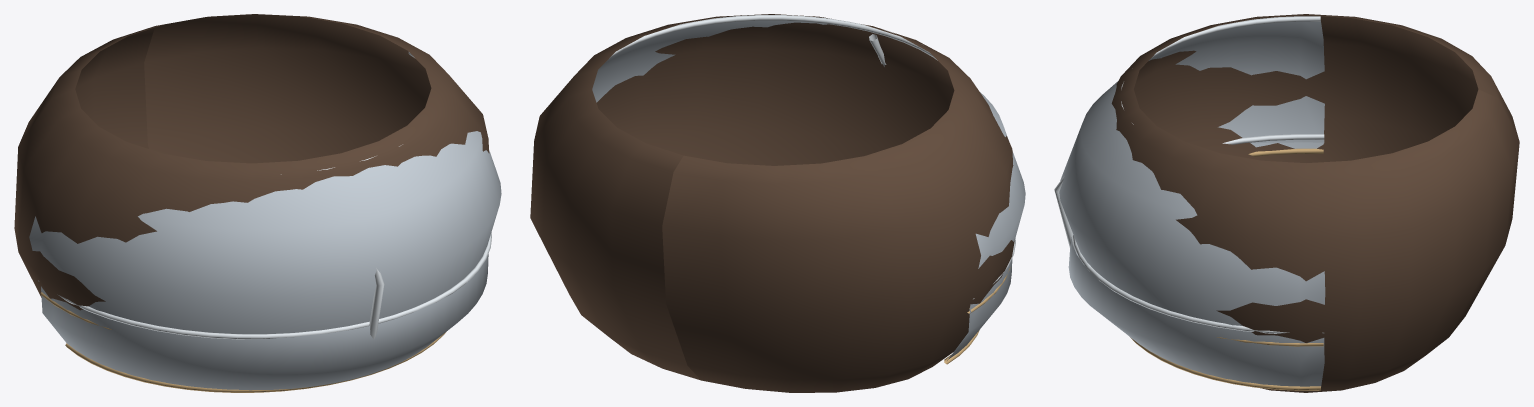
The model's file is gauntlet.glb.
3 renders of one model, left to right at view 1: azimuth 30°, elevation 25°; view 2: azimuth 150°, elevation 25°; view 3: azimuth 270°, elevation 25°, orthographic. The views are drawn at different scales.
Visible parts, largest first — view 1: glove_leather, metacarpal_plate, knuckle_plate, knuckle_plate_bevel, knuckle_plate_gold_rim, gauntlet_ridge; view 2: glove_leather, metacarpal_plate, metacarpal_plate_bevel, knuckle_plate; view 3: glove_leather, metacarpal_plate, knuckle_plate, knuckle_plate_bevel, metacarpal_plate_bevel, knuckle_plate_gold_rim, metacarpal_plate_gold_rim.
Part boxes in pixels (box(x1,y1,x2,y2)): glove_leather: box(14, 14, 489, 310); metacarpal_plate: box(29, 131, 501, 334); knuckle_plate: box(41, 254, 488, 390); knuckle_plate_bevel: box(38, 232, 491, 339); knuckle_plate_gold_rim: box(65, 332, 445, 392); gauntlet_ridge: box(369, 268, 384, 339); glove_leather: box(530, 14, 1014, 392); metacarpal_plate: box(592, 20, 1025, 310); metacarpal_plate_bevel: box(609, 15, 937, 60); knuckle_plate: box(947, 258, 1012, 360); glove_leather: box(1111, 14, 1519, 392); metacarpal_plate: box(1059, 20, 1325, 325); knuckle_plate: box(1068, 139, 1324, 386); knuckle_plate_bevel: box(1073, 134, 1324, 333); metacarpal_plate_bevel: box(1121, 16, 1320, 124); knuckle_plate_gold_rim: box(1130, 337, 1320, 390); metacarpal_plate_gold_rim: box(1217, 148, 1323, 346).
Size of the model in its own units: 2 by 1.04 by 1.92.
